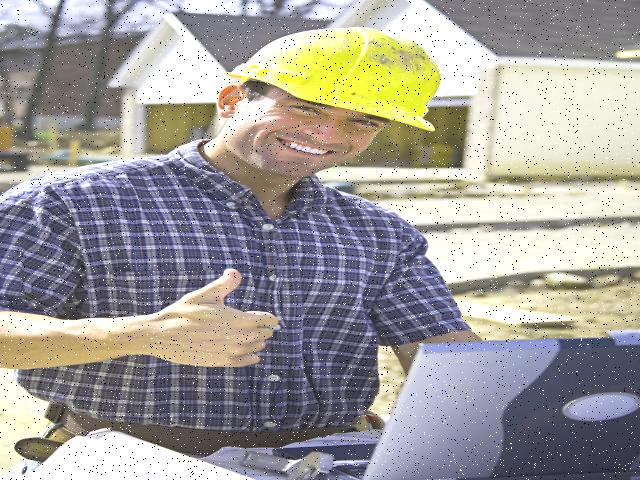Helmet: (216, 22, 448, 138)
